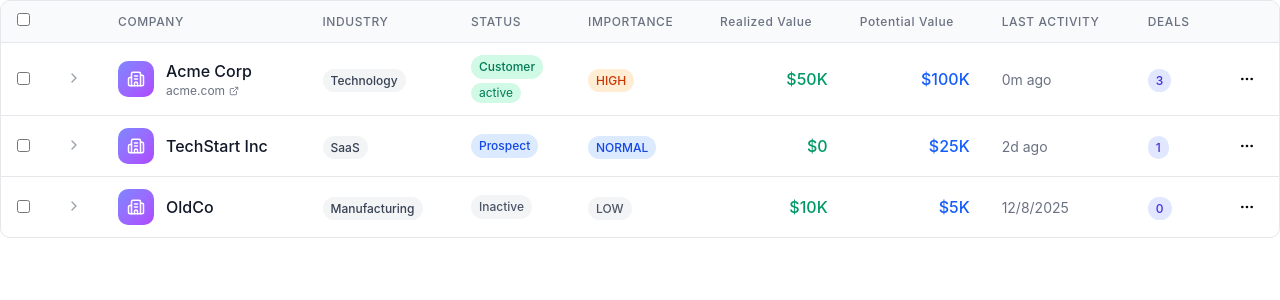
CRMCustomerTable › Actions Menu › should open dropdown menu when actions button is clicked
Click the 4th button at x=1247, y=79, box [1231,63,1263,95]
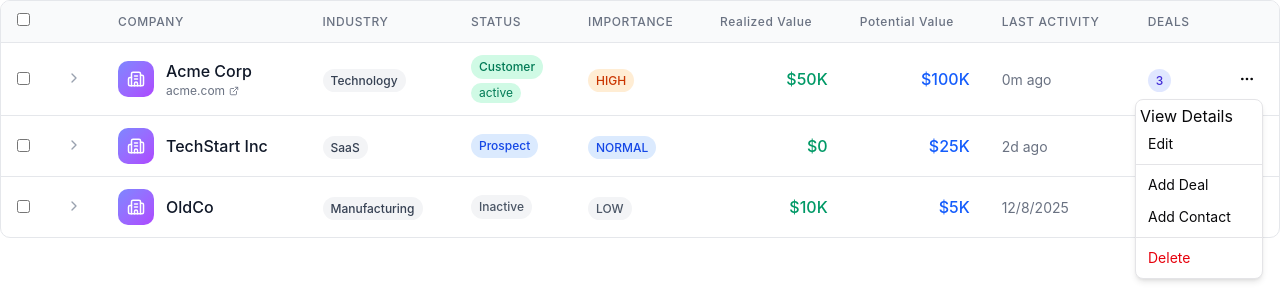
Result: the link "View Details" is shown at [1140,106,1233,126]
Result: the menu item "Edit" is shown at [1148,135,1173,152]
